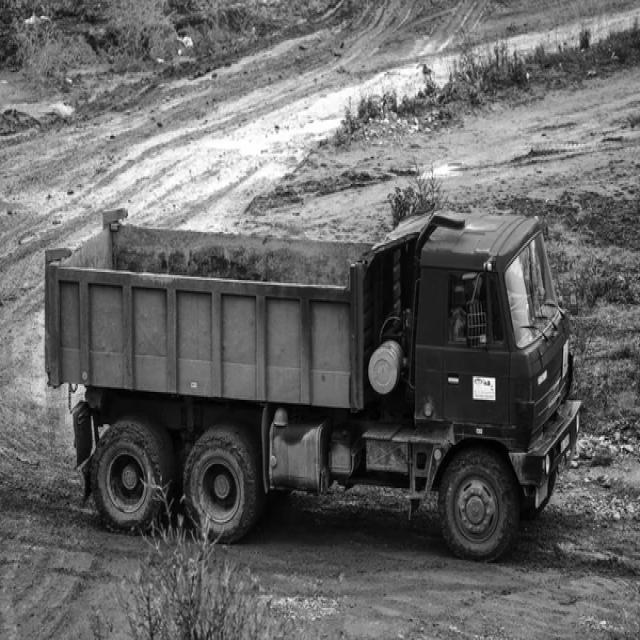Truck: (45, 208, 582, 560)
